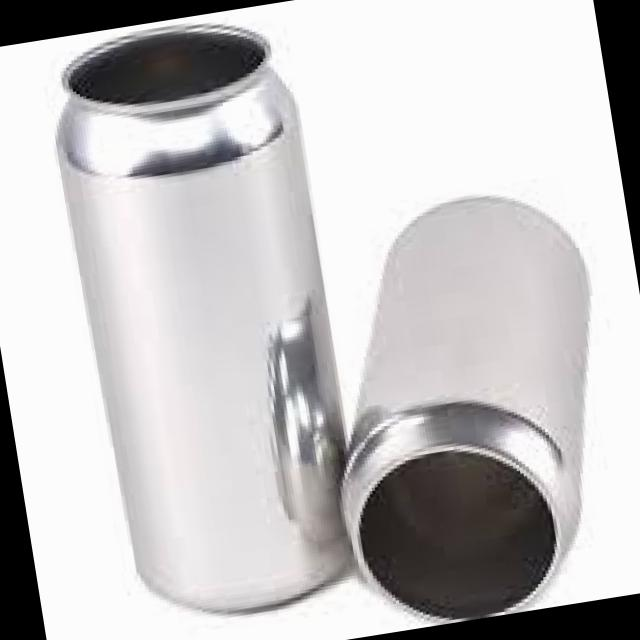kim_loai: (52, 21, 351, 619), (337, 193, 595, 626)
